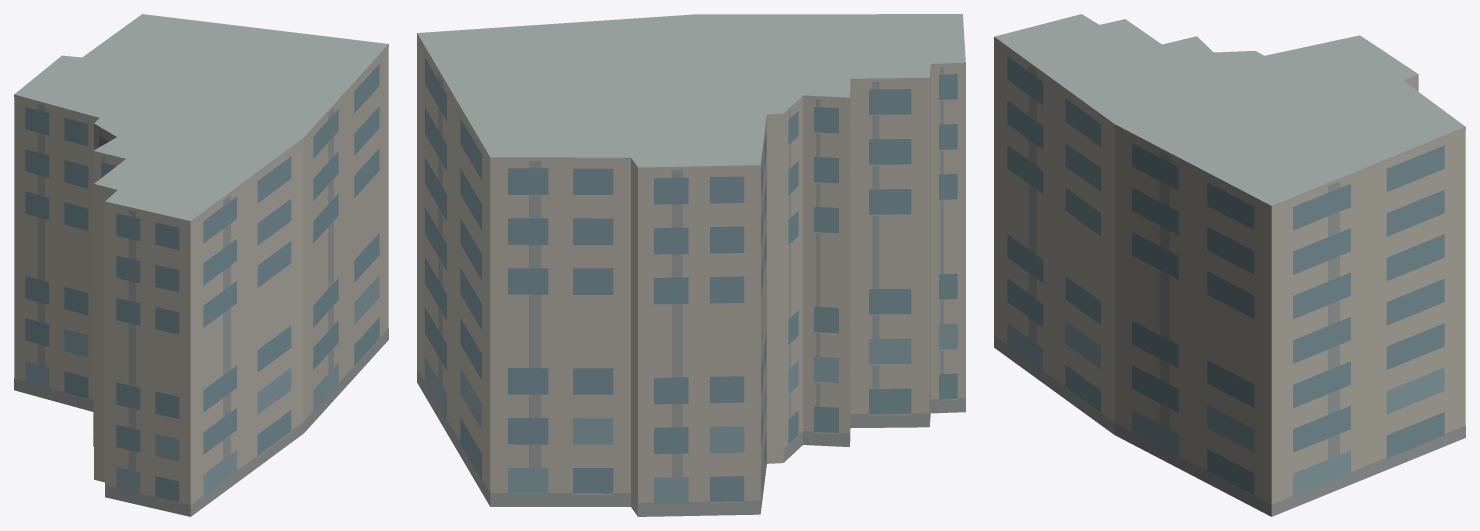
Rendered from survey-upis-33009236.glb.
The picture shows the model from 3 angles, left to right: view 1: azimuth 30°, elevation 25°; view 2: azimuth 150°, elevation 25°; view 3: azimuth 270°, elevation 25°; orthographic projection. The views are drawn at different scales.
Parts seen in each view (by area): view 1: survey-upis-33009236.tmp; view 2: survey-upis-33009236.tmp; view 3: survey-upis-33009236.tmp.
Part boxes in pixels (x1,y1,x2,y2): survey-upis-33009236.tmp: [14, 14, 388, 516]; survey-upis-33009236.tmp: [417, 14, 965, 516]; survey-upis-33009236.tmp: [994, 14, 1465, 516].
Bounding box in the file's own units: 32.7 × 24.7 × 33.96.
